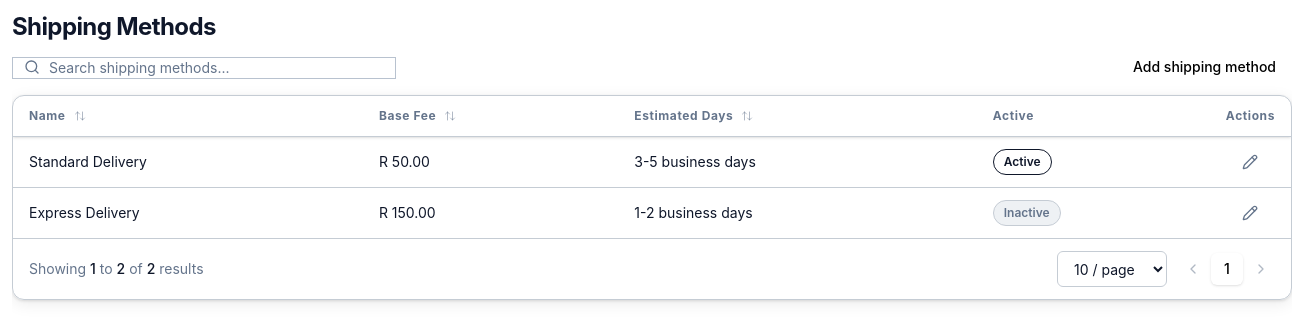
Scenario: ShippingMethodsPage › search filtering › shows every method again once the search text is cleared
The width and height of the screenshot is (1304, 321).
Step 1. Type "Express" into the field with placeholder "Search shipping methods..." → coordinates (204, 68), box [12,57,396,79]
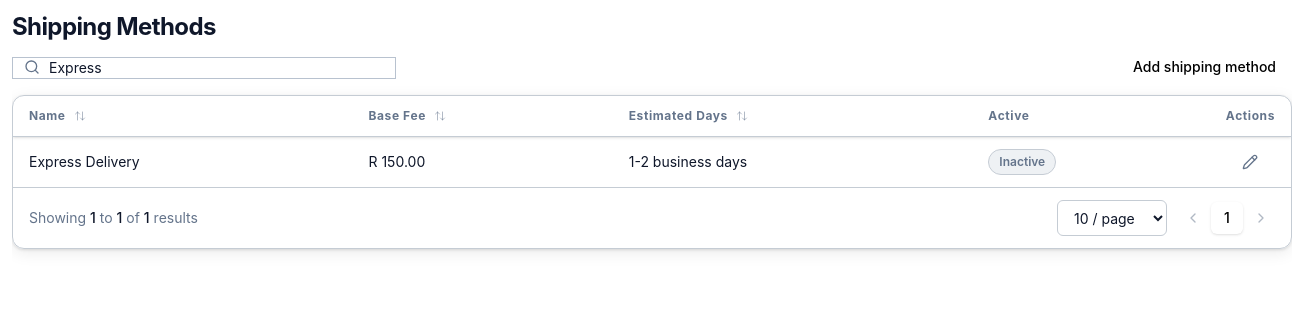
Step 2. Clear the field with placeholder "Search shipping methods..." → coordinates (204, 68), box [12,57,396,79]
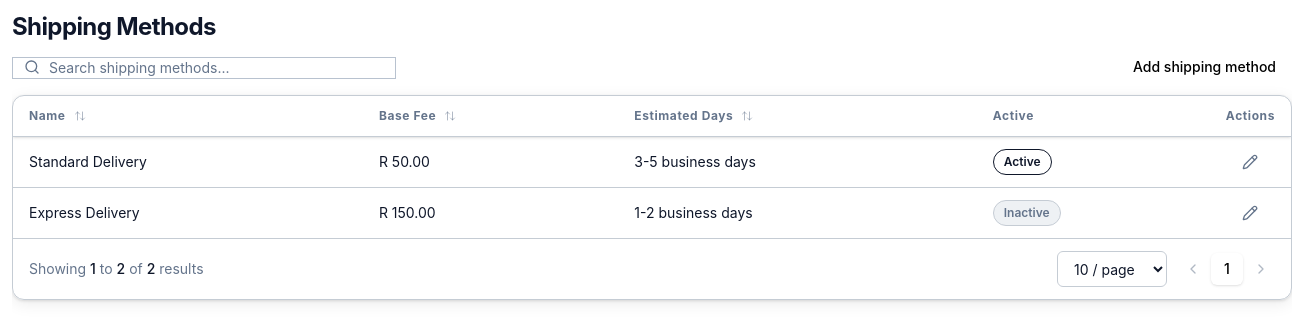
Expected: the text "Express Delivery" is shown, [13,188,363,238]
Expected: the text "Standard Delivery" is shown, [13,136,363,188]
